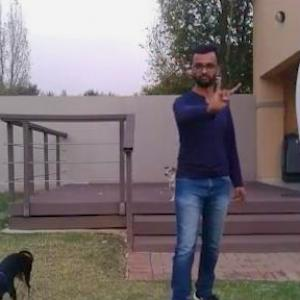takeoff-hand: (202, 69, 247, 121)
